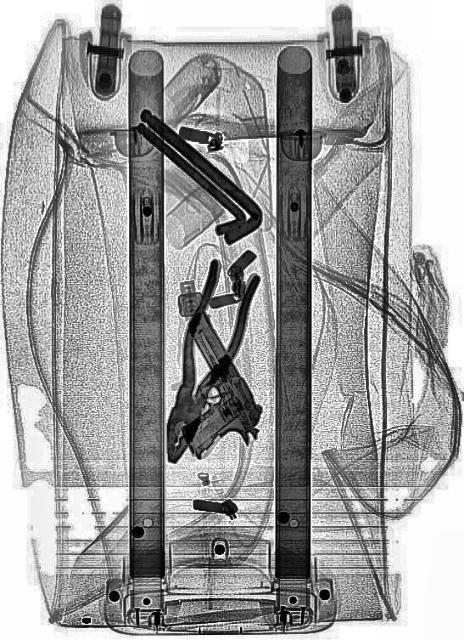Gun: (141, 304, 271, 482)
Pliers: (145, 249, 263, 477)
